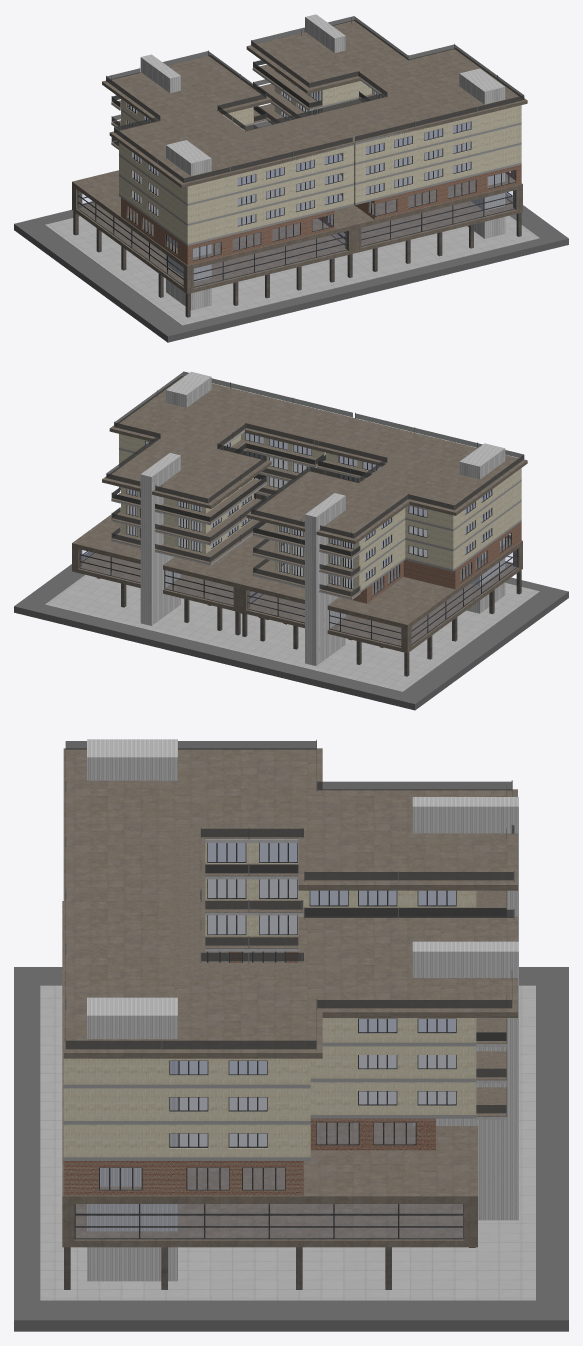
3 renders of one model, top to bottom at view 1: azimuth 30°, elevation 25°; view 2: azimuth 150°, elevation 25°; view 3: azimuth 270°, elevation 25°, orthographic. The views are drawn at different scales.
Visible parts, largest first — view 1: Line111, Line015, Box001, Box032, Box191, Box016, Object001_04 - Default_0, Line014, Line017, Line107, Line043, Line004 (+5 smaller); view 2: Line111, Box001, Box032, Box016, Box191, Line015, Line017, Line043, Object001_04 - Default_0, Line107, Line014, Line048 (+7 smaller); view 3: Line111, Box191, Box032, Line015, Box001, Box016, Line017, Line004, Line043, Object001_04 - Default_0, Line014, Line107 (+7 smaller).
Boxes of the visible parts, x1=… form: Line111: x1=102, y1=20, x2=527, y2=187; Line015: x1=119, y1=70, x2=521, y2=243; Box001: x1=72, y1=170, x2=522, y2=294; Box032: x1=45, y1=215, x2=539, y2=325; Box191: x1=14, y1=192, x2=568, y2=342; Box016: x1=140, y1=14, x2=505, y2=310; Object001_04 - Default_0: x1=77, y1=74, x2=516, y2=287; Line014: x1=121, y1=164, x2=521, y2=265; Line017: x1=111, y1=64, x2=408, y2=148; Line107: x1=106, y1=16, x2=524, y2=182; Line043: x1=112, y1=27, x2=386, y2=146; Line004: x1=281, y1=90, x2=521, y2=204; Line111: x1=102, y1=376, x2=527, y2=544; Box001: x1=72, y1=494, x2=522, y2=653; Box032: x1=45, y1=574, x2=539, y2=691; Box016: x1=140, y1=371, x2=505, y2=665; Box191: x1=14, y1=551, x2=568, y2=710; Line015: x1=119, y1=432, x2=521, y2=591; Line017: x1=111, y1=419, x2=408, y2=598; Line043: x1=112, y1=423, x2=386, y2=596; Object001_04 - Default_0: x1=79, y1=433, x2=517, y2=646; Line107: x1=106, y1=371, x2=524, y2=538; Line014: x1=352, y1=522, x2=521, y2=603; Line048: x1=111, y1=430, x2=364, y2=599; Line111: x1=63, y1=748, x2=517, y2=1058; Box191: x1=14, y1=967, x2=568, y2=1331; Box032: x1=40, y1=985, x2=535, y2=1300; Line015: x1=63, y1=843, x2=476, y2=1157; Box001: x1=62, y1=901, x2=477, y2=1247; Box016: x1=87, y1=739, x2=518, y2=1281; Line017: x1=170, y1=827, x2=507, y2=1116; Line004: x1=63, y1=1019, x2=475, y2=1160; Line043: x1=200, y1=825, x2=514, y2=1113; Object001_04 - Default_0: x1=74, y1=843, x2=463, y2=1239; Line014: x1=63, y1=951, x2=435, y2=1195; Line107: x1=65, y1=741, x2=512, y2=1049.
Size of the model in its own units: 62.71 by 23.26 by 41.66.
16 materials, 10 textured.
